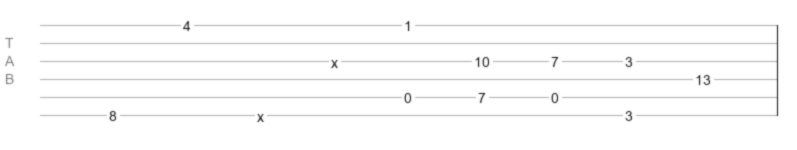0: (404, 90, 412, 100), (551, 90, 559, 100)
1: (404, 18, 412, 28)
10: (474, 54, 490, 64)
13: (695, 72, 711, 82)
3: (625, 54, 633, 64), (625, 108, 633, 118)
4: (183, 18, 191, 28)
7: (478, 90, 486, 100), (551, 54, 559, 64)
8: (109, 108, 117, 118)
x: (257, 109, 264, 117), (331, 55, 338, 63)
